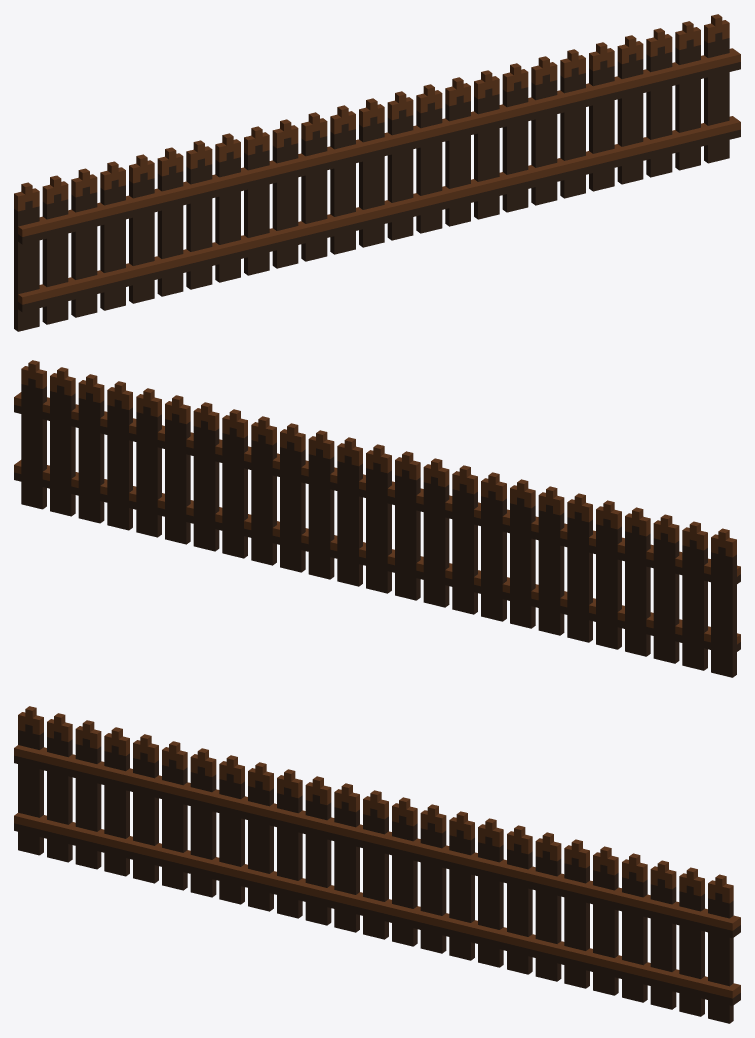
Rendered from FenceLong.fbx.
3 views of the same model, one above another, from view 1: azimuth 30°, elevation 25°; view 2: azimuth 150°, elevation 25°; view 3: azimuth 330°, elevation 25° (orthographic).
Visible parts, largest first — view 1: FenceLong; view 2: FenceLong; view 3: FenceLong.
Boxes of the visible parts, box(x1,y1,x2,y2) form: FenceLong: box(14, 14, 740, 331); FenceLong: box(14, 360, 740, 677); FenceLong: box(14, 706, 740, 1023).
Size of the model in its own units: 1000 by 190 by 20.
